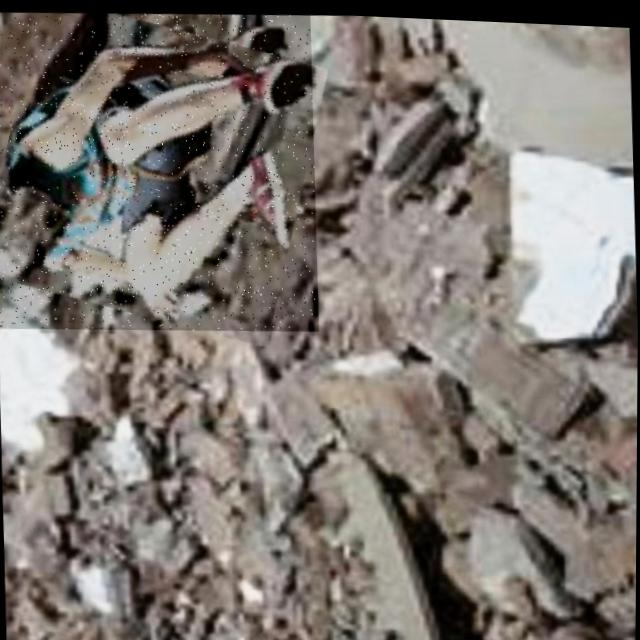Person in Rubble: (0, 0, 321, 338)
